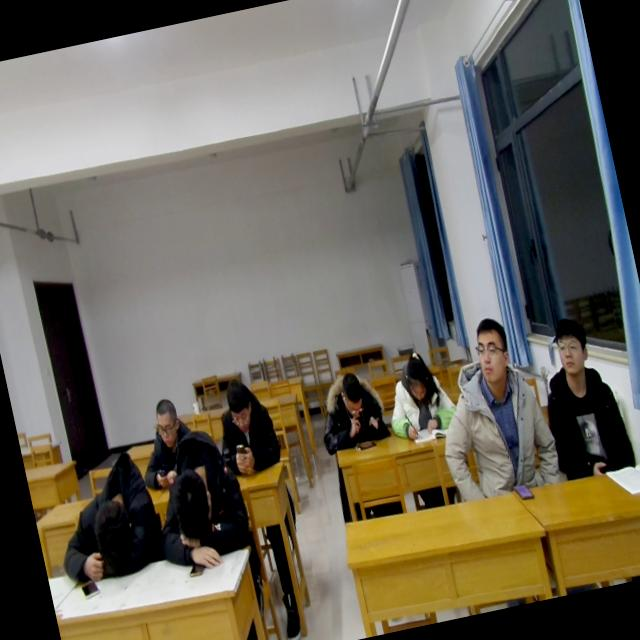bow: (138, 430, 259, 580), (45, 454, 166, 586)
down: (146, 390, 187, 454), (394, 345, 435, 407), (218, 376, 258, 438), (334, 366, 371, 422)
lookup: (464, 307, 518, 389), (546, 308, 596, 381)
sit: (418, 304, 566, 500), (526, 306, 636, 482), (206, 370, 286, 482), (376, 339, 456, 441), (310, 362, 394, 457), (130, 392, 205, 483)
